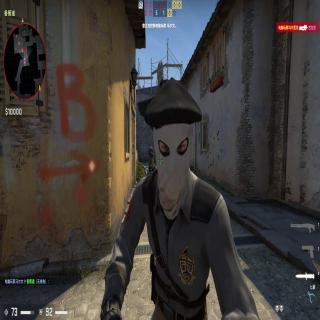T-Body: (104, 72, 258, 316)
T-Head: (147, 74, 200, 194)
